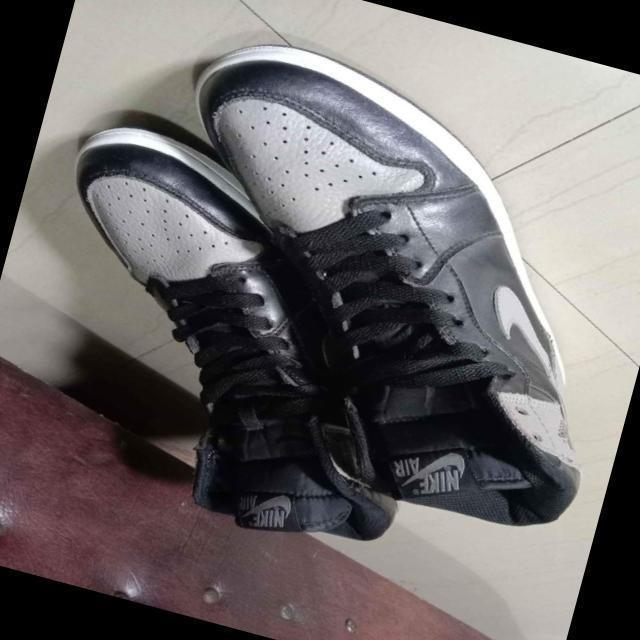nike fake jordan 1: (99, 22, 640, 546), (0, 114, 475, 566)
